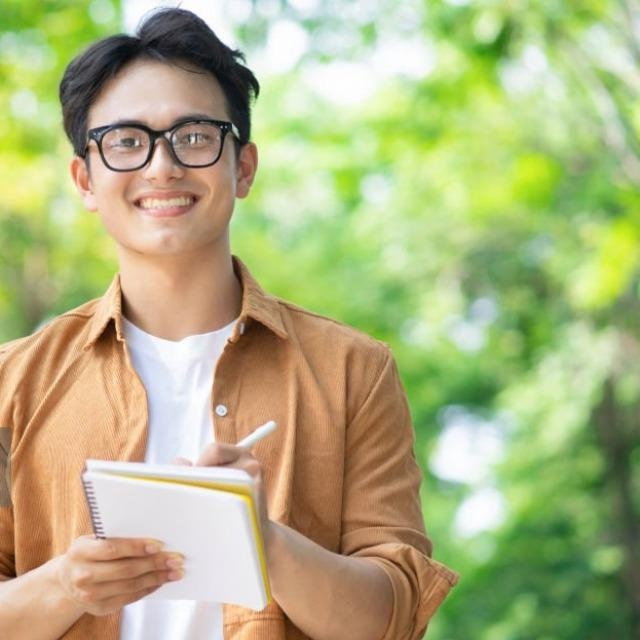Sin_Casco_Mascarrilla: (63, 10, 260, 252)
Sin_Chaleco: (0, 284, 412, 640)
